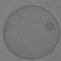small: (44, 21, 54, 31)
